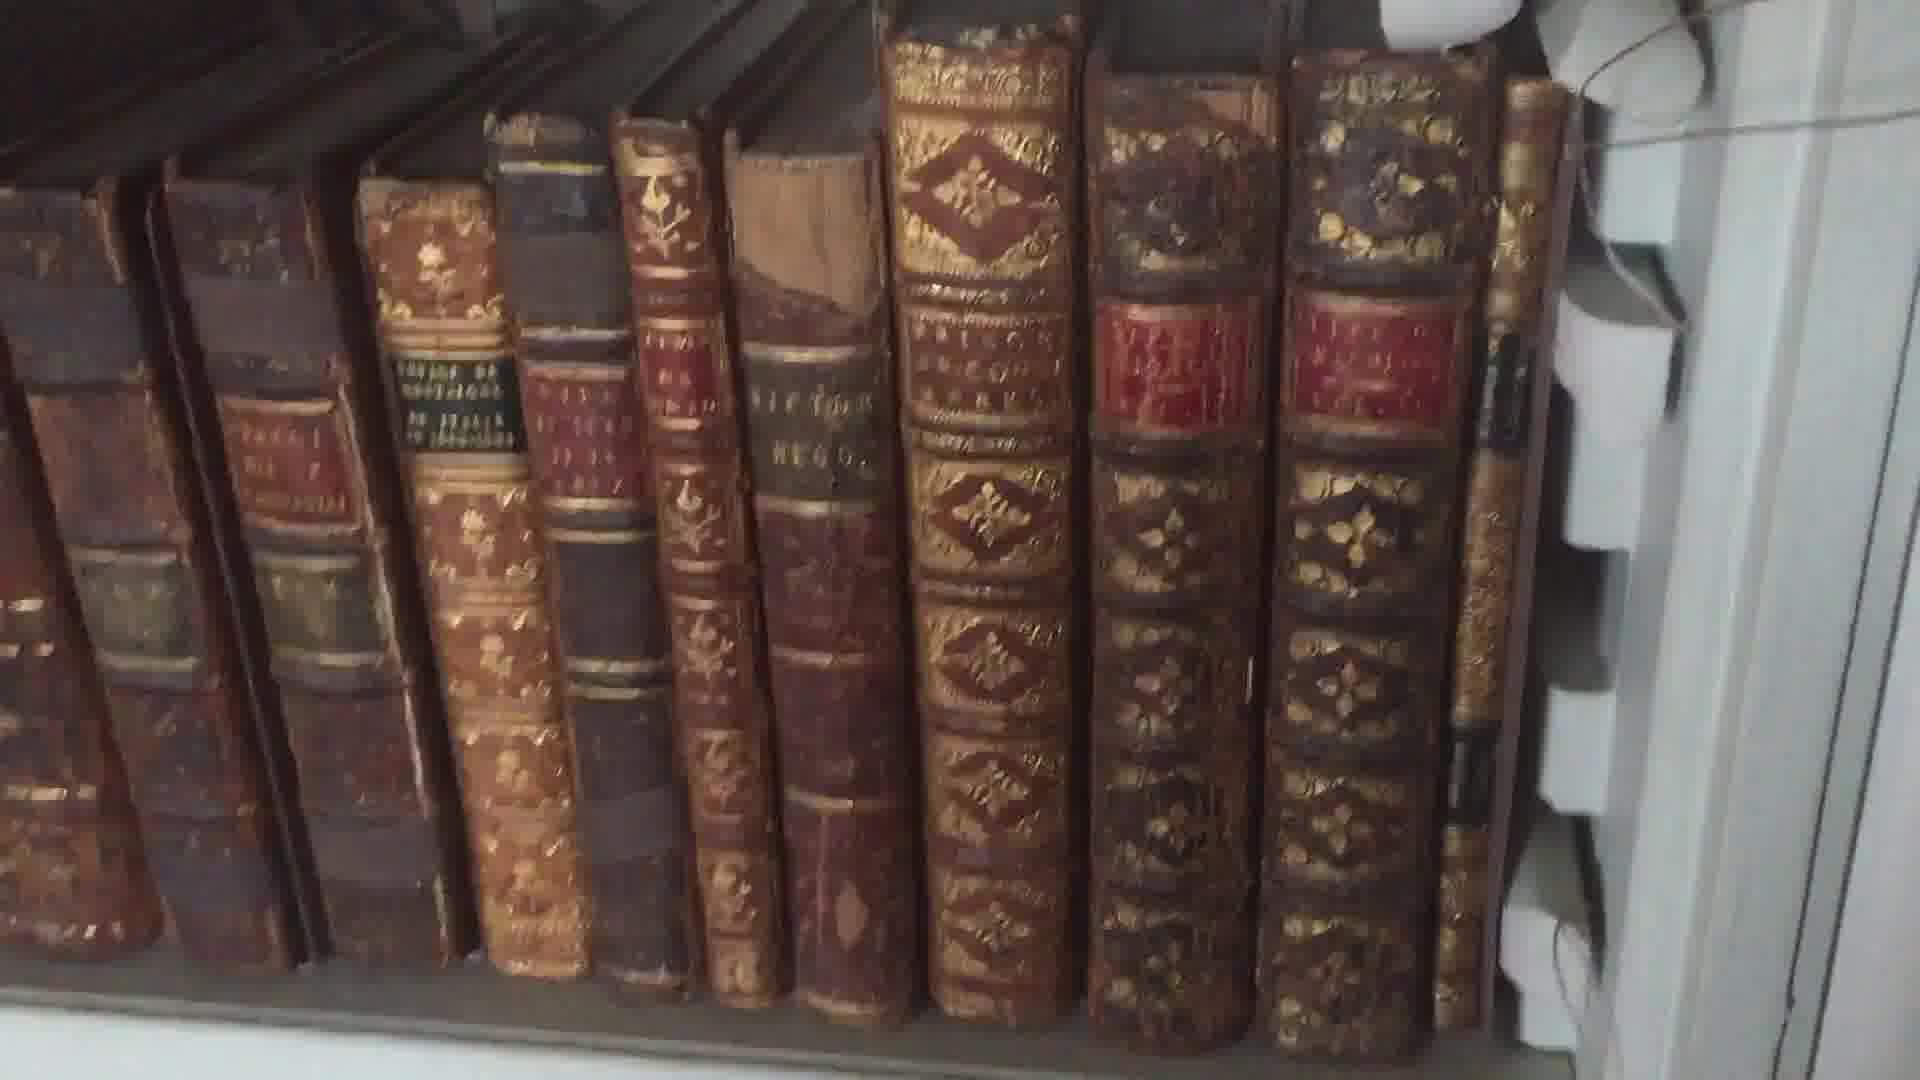Aa6-39_40: (12, 136, 468, 980)
Aa6-41: (342, 146, 582, 1009)
Aa6-42: (469, 113, 702, 1000)
Aa6-43: (592, 124, 790, 1022)
Aa6-44: (709, 129, 953, 1048)
Aa6-45: (870, 29, 1102, 1048)
Aa6-46-47: (1063, 58, 1422, 1080)
Aa6-48: (1437, 53, 1594, 1062)
